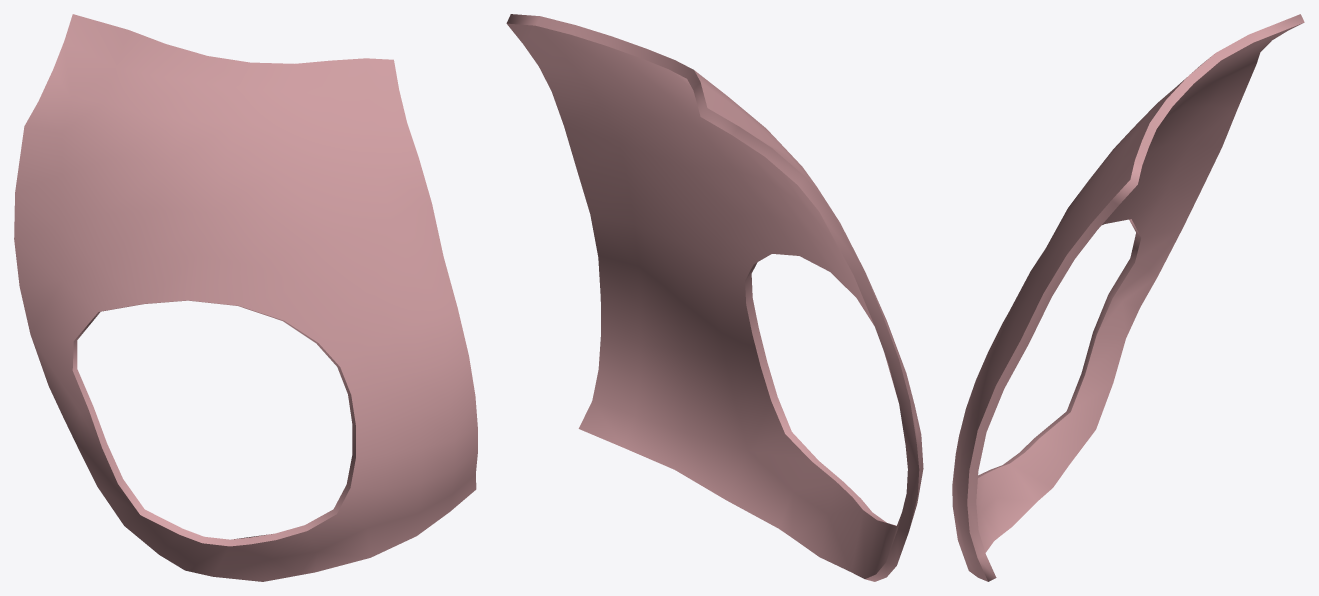
3 views of the same model, side by side, from view 1: azimuth 30°, elevation 25°; view 2: azimuth 150°, elevation 25°; view 3: azimuth 270°, elevation 25° (orthographic). The views are drawn at different scales.
Visible parts, largest first — view 1: ZA_df36c6532749c47e; view 2: ZA_df36c6532749c47e; view 3: ZA_df36c6532749c47e.
Boxes of the visible parts, bbox=[...] form: ZA_df36c6532749c47e: bbox=[14, 14, 477, 581]; ZA_df36c6532749c47e: bbox=[506, 14, 923, 581]; ZA_df36c6532749c47e: bbox=[952, 14, 1304, 581].
Size of the model in its own units: 0.136 by 0.1737 by 0.1131.
